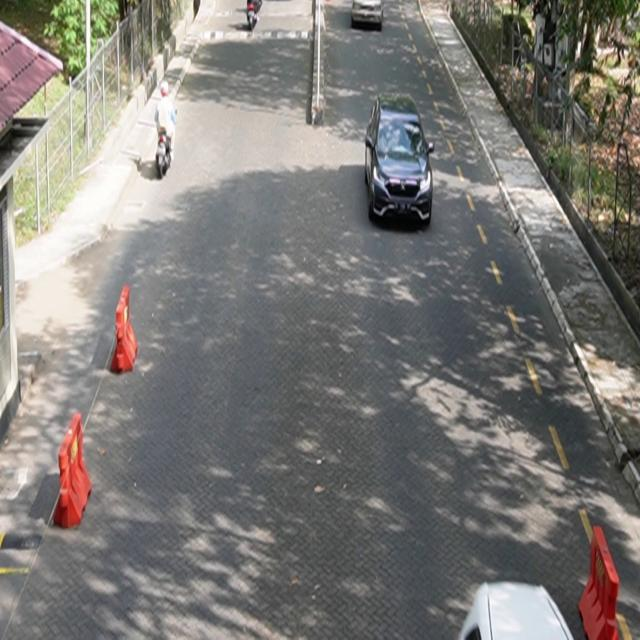car: (366, 92, 436, 227), (352, 1, 384, 31)
